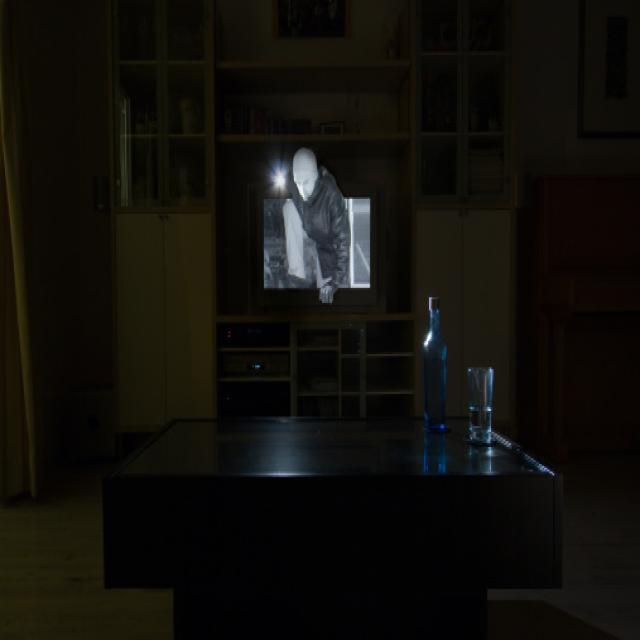Bottle: (420, 293, 455, 435)
Cup: (460, 362, 499, 442)
Table: (99, 403, 573, 640)
